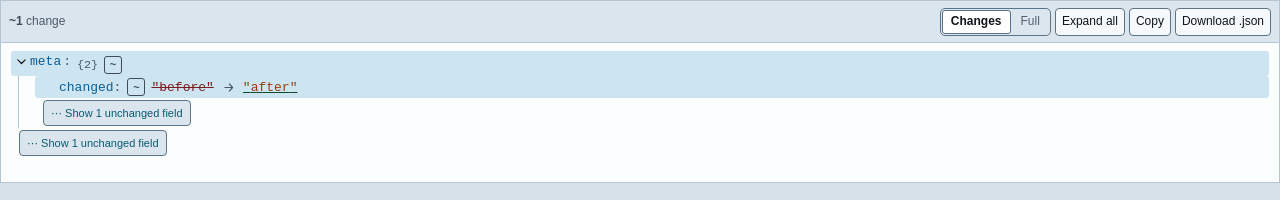
Test: Inspector JSON controls › shows full formatted context while preserving the changed-value highlight
Click the button "Full" at {"x": 1030, "y": 22}, box [1012,10,1049,34]
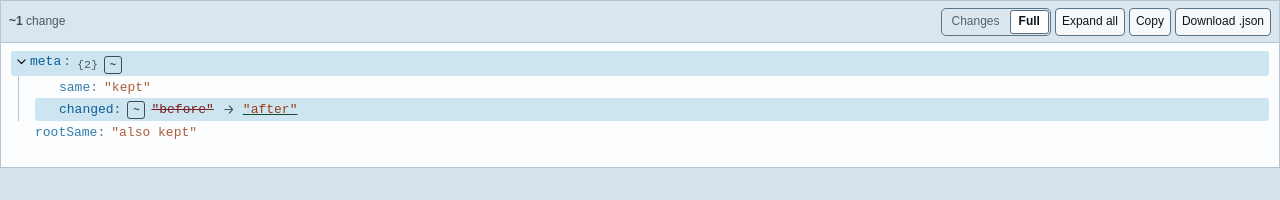
Check: the text "before" is shown, box [151,102,214,117]
Check: the element showing "rootSame : \"also kept\"" is shown, box [35,125,197,140]
Check: the element showing "same : \"kept\"" is shown, box [59,80,151,95]
